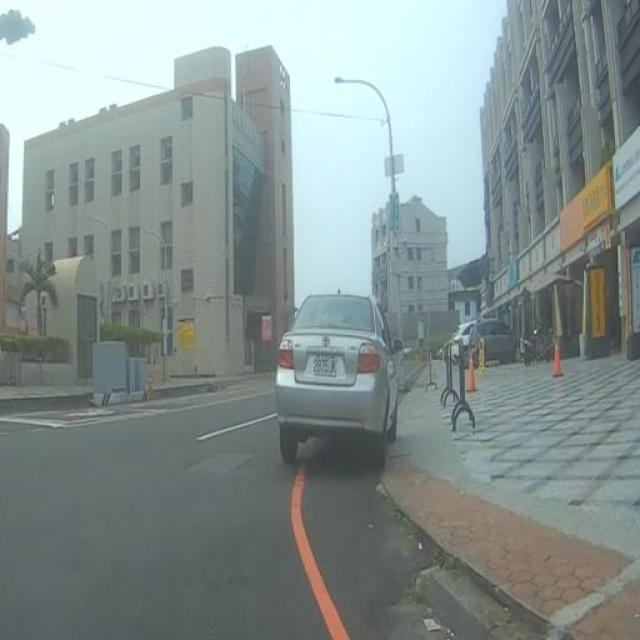illegalparking: (278, 242, 438, 547)
